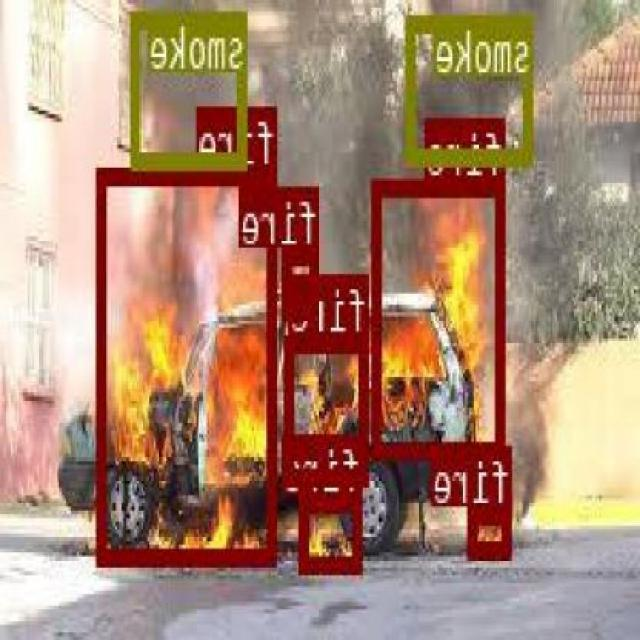Fire: (99, 167, 278, 562), (376, 176, 506, 456), (288, 333, 370, 481), (301, 493, 364, 569), (286, 244, 320, 316), (471, 502, 514, 556)
Smoke: (408, 14, 535, 160), (134, 10, 248, 166)
